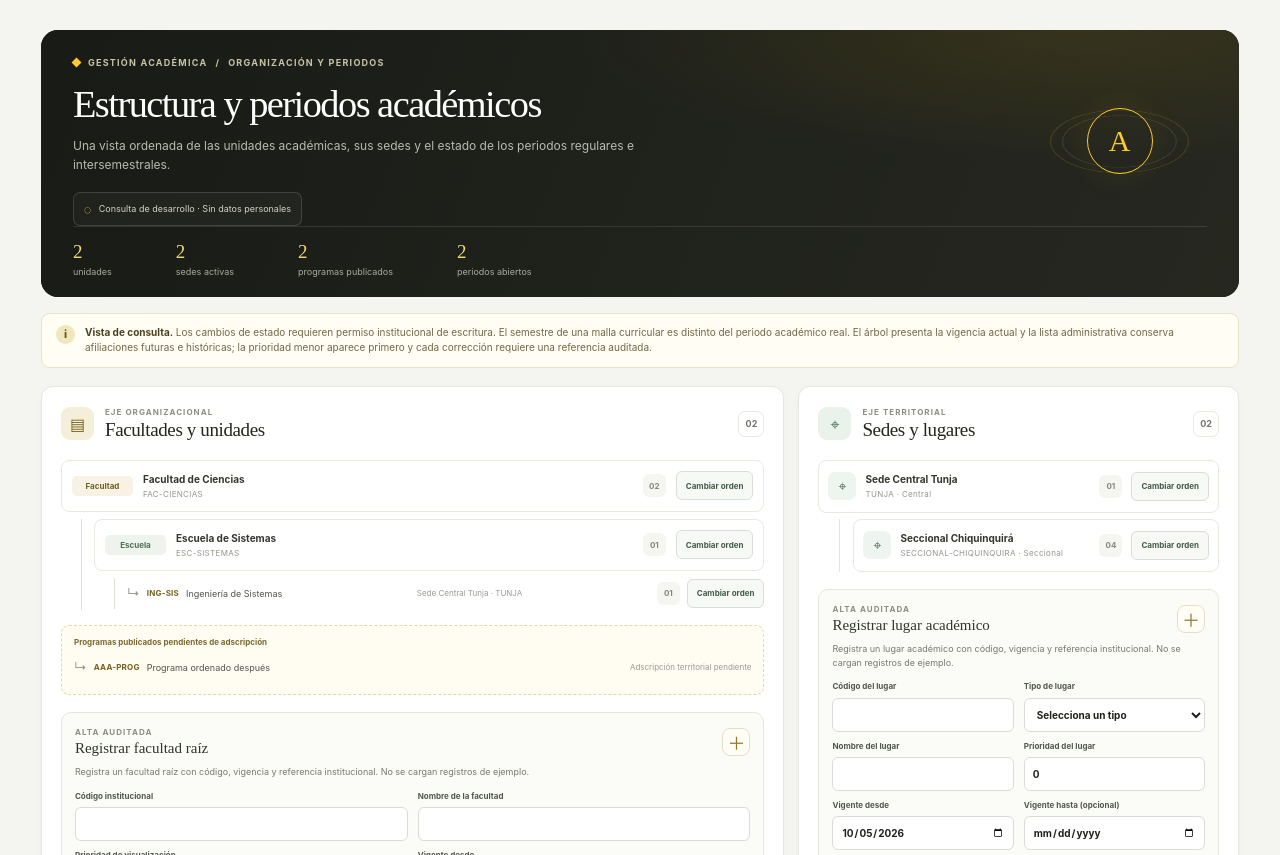
AcademicOperationsPage › saves a unit priority with its expected value and source reference, then refreshes from the server
Click the button with aria-label "Cambiar orden de Facultad de Ciencias".
click(715, 486)  # box top-left (676, 471), bottom-right (753, 500)
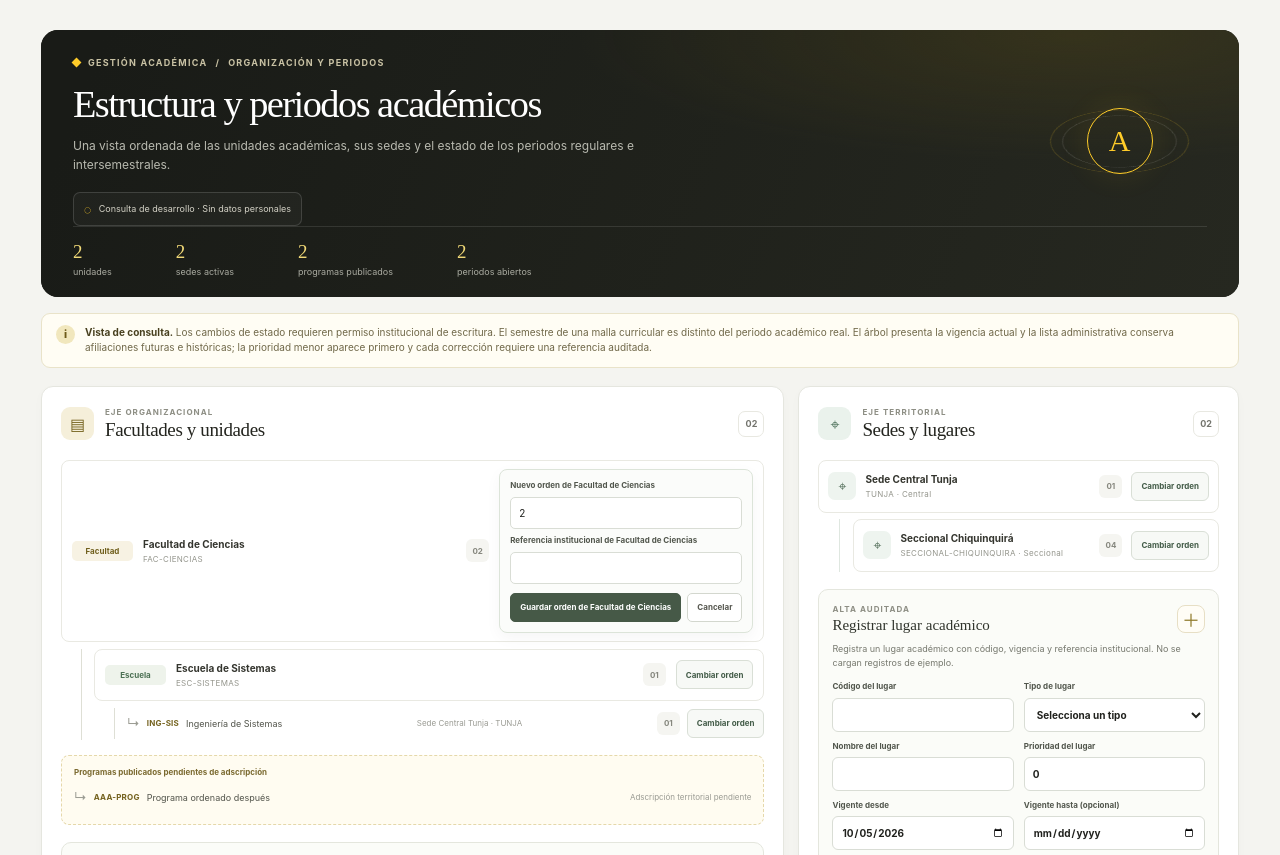
Replace the text in the number field labelled "Nuevo orden de Facultad de Ciencias" with "7" at (626, 513), box top-left (510, 497), bottom-right (742, 529)
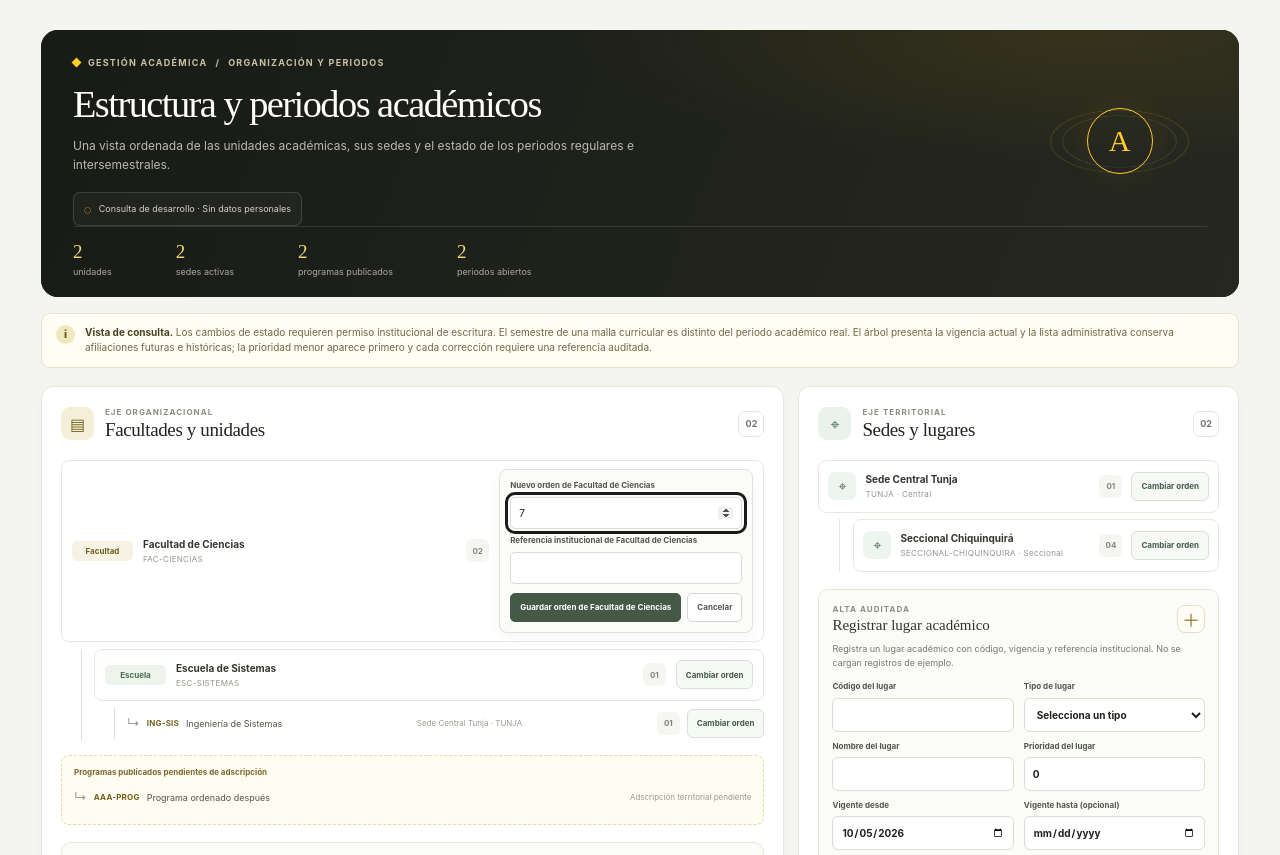
Type "Resolución 123 de 2026" into the field labelled "Referencia institucional de Facultad de Ciencias".
click(626, 568); type("Resolución 123 de 2026")  # box top-left (510, 552), bottom-right (742, 584)
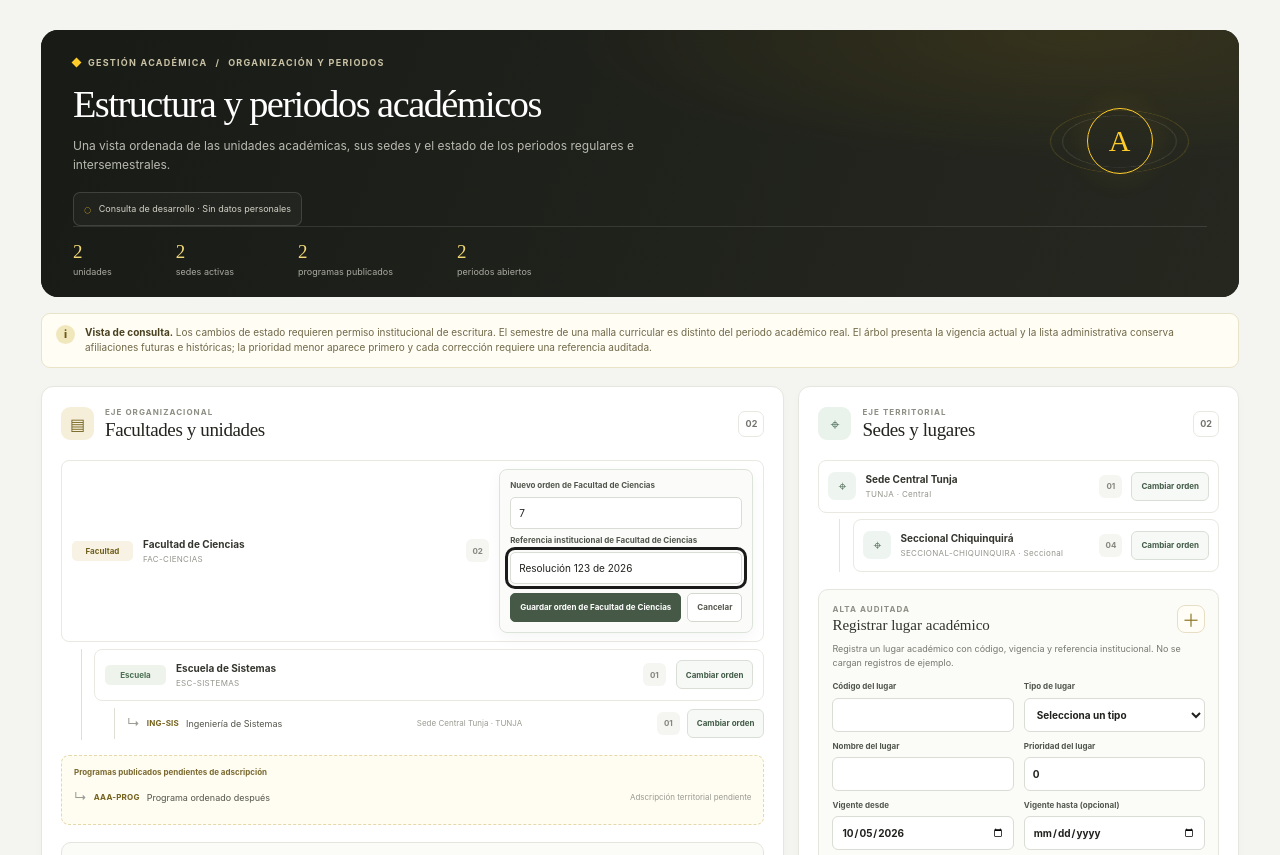
Click the button "Guardar orden de Facultad de Ciencias".
click(596, 608)  # box top-left (510, 593), bottom-right (681, 622)
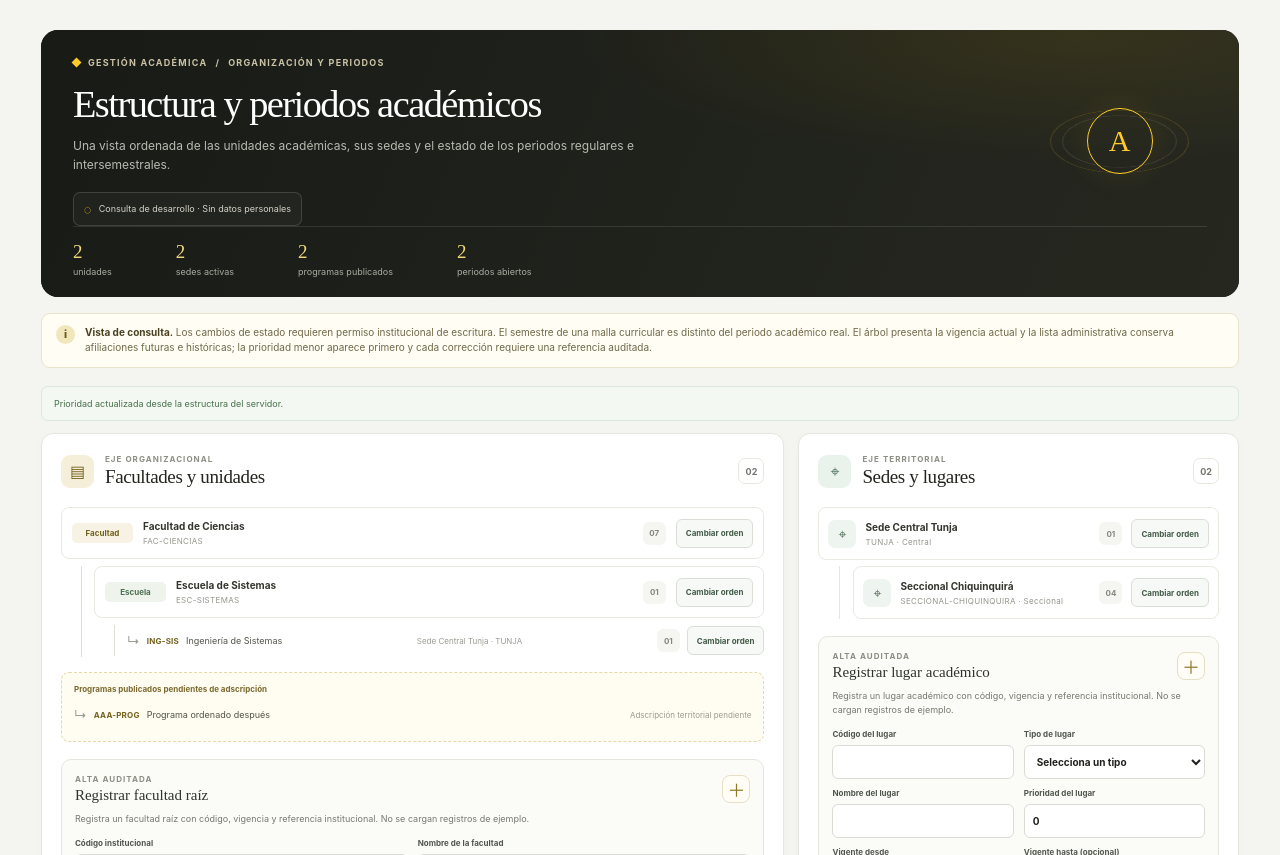
Check: the text "07" is shown, box top-left (643, 522), bottom-right (666, 545)
Check: the message shows "Prioridad actualizada", box top-left (54, 398), bottom-right (283, 409)
